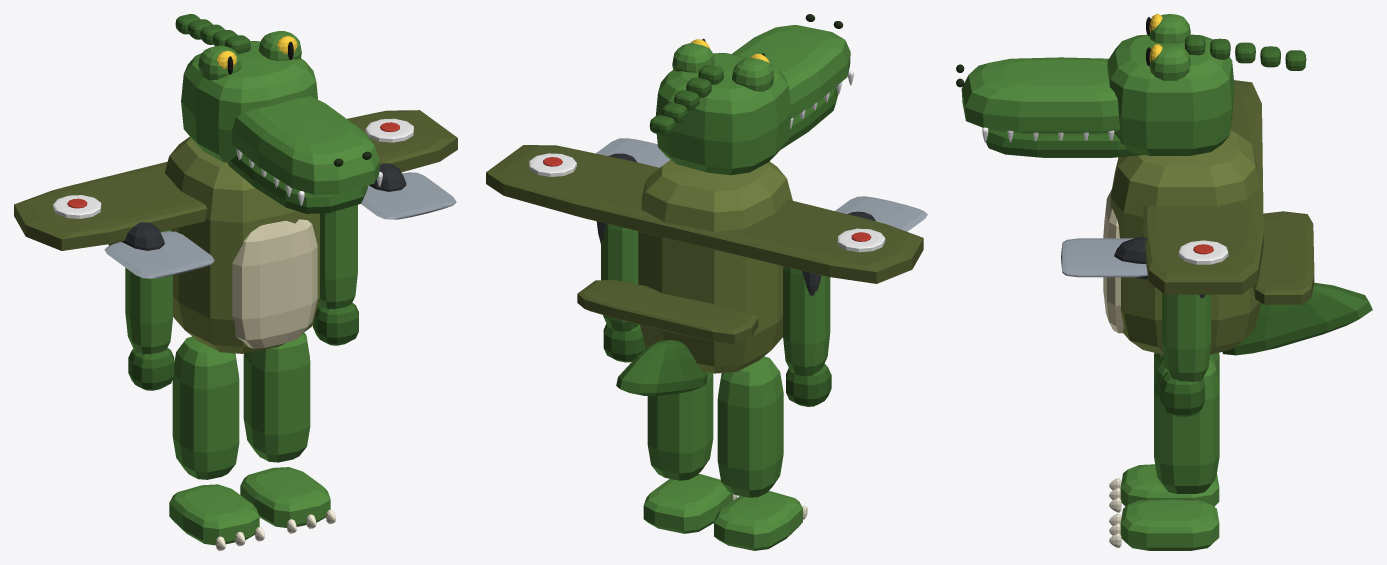
File: br-bombardiro.glb
3 views of the same model, side by side, from view 1: azimuth 30°, elevation 25°; view 2: azimuth 150°, elevation 25°; view 3: azimuth 270°, elevation 25° (orthographic). The views are drawn at different scales.
Visible parts, largest first — view 1: torso, head, leg-right, leg-left, arm-left, arm-right; view 2: torso, head, leg-right, leg-left, arm-right, arm-left; view 3: torso, head, leg-left, arm-left, leg-right.
Boxes of the visible parts, box(x1,y1,x2,y2) form: torso: box(14, 110, 457, 353); head: box(175, 14, 382, 213); leg-right: box(169, 336, 264, 550); leg-left: box(240, 332, 335, 533); arm-left: box(313, 205, 358, 345); arm-right: box(125, 229, 174, 390); torso: box(486, 138, 927, 395); head: box(649, 14, 853, 175); leg-right: box(714, 356, 807, 550); leg-left: box(643, 372, 737, 533); arm-right: box(783, 266, 831, 406); arm-left: box(601, 224, 647, 362); torso: box(1061, 80, 1372, 355); head: box(956, 14, 1306, 157); leg-left: box(1109, 355, 1219, 550); arm-left: box(1160, 292, 1211, 416); leg-right: box(1109, 352, 1219, 512).
Size of the model in its own units: 2.33 by 2.59 by 1.99.
